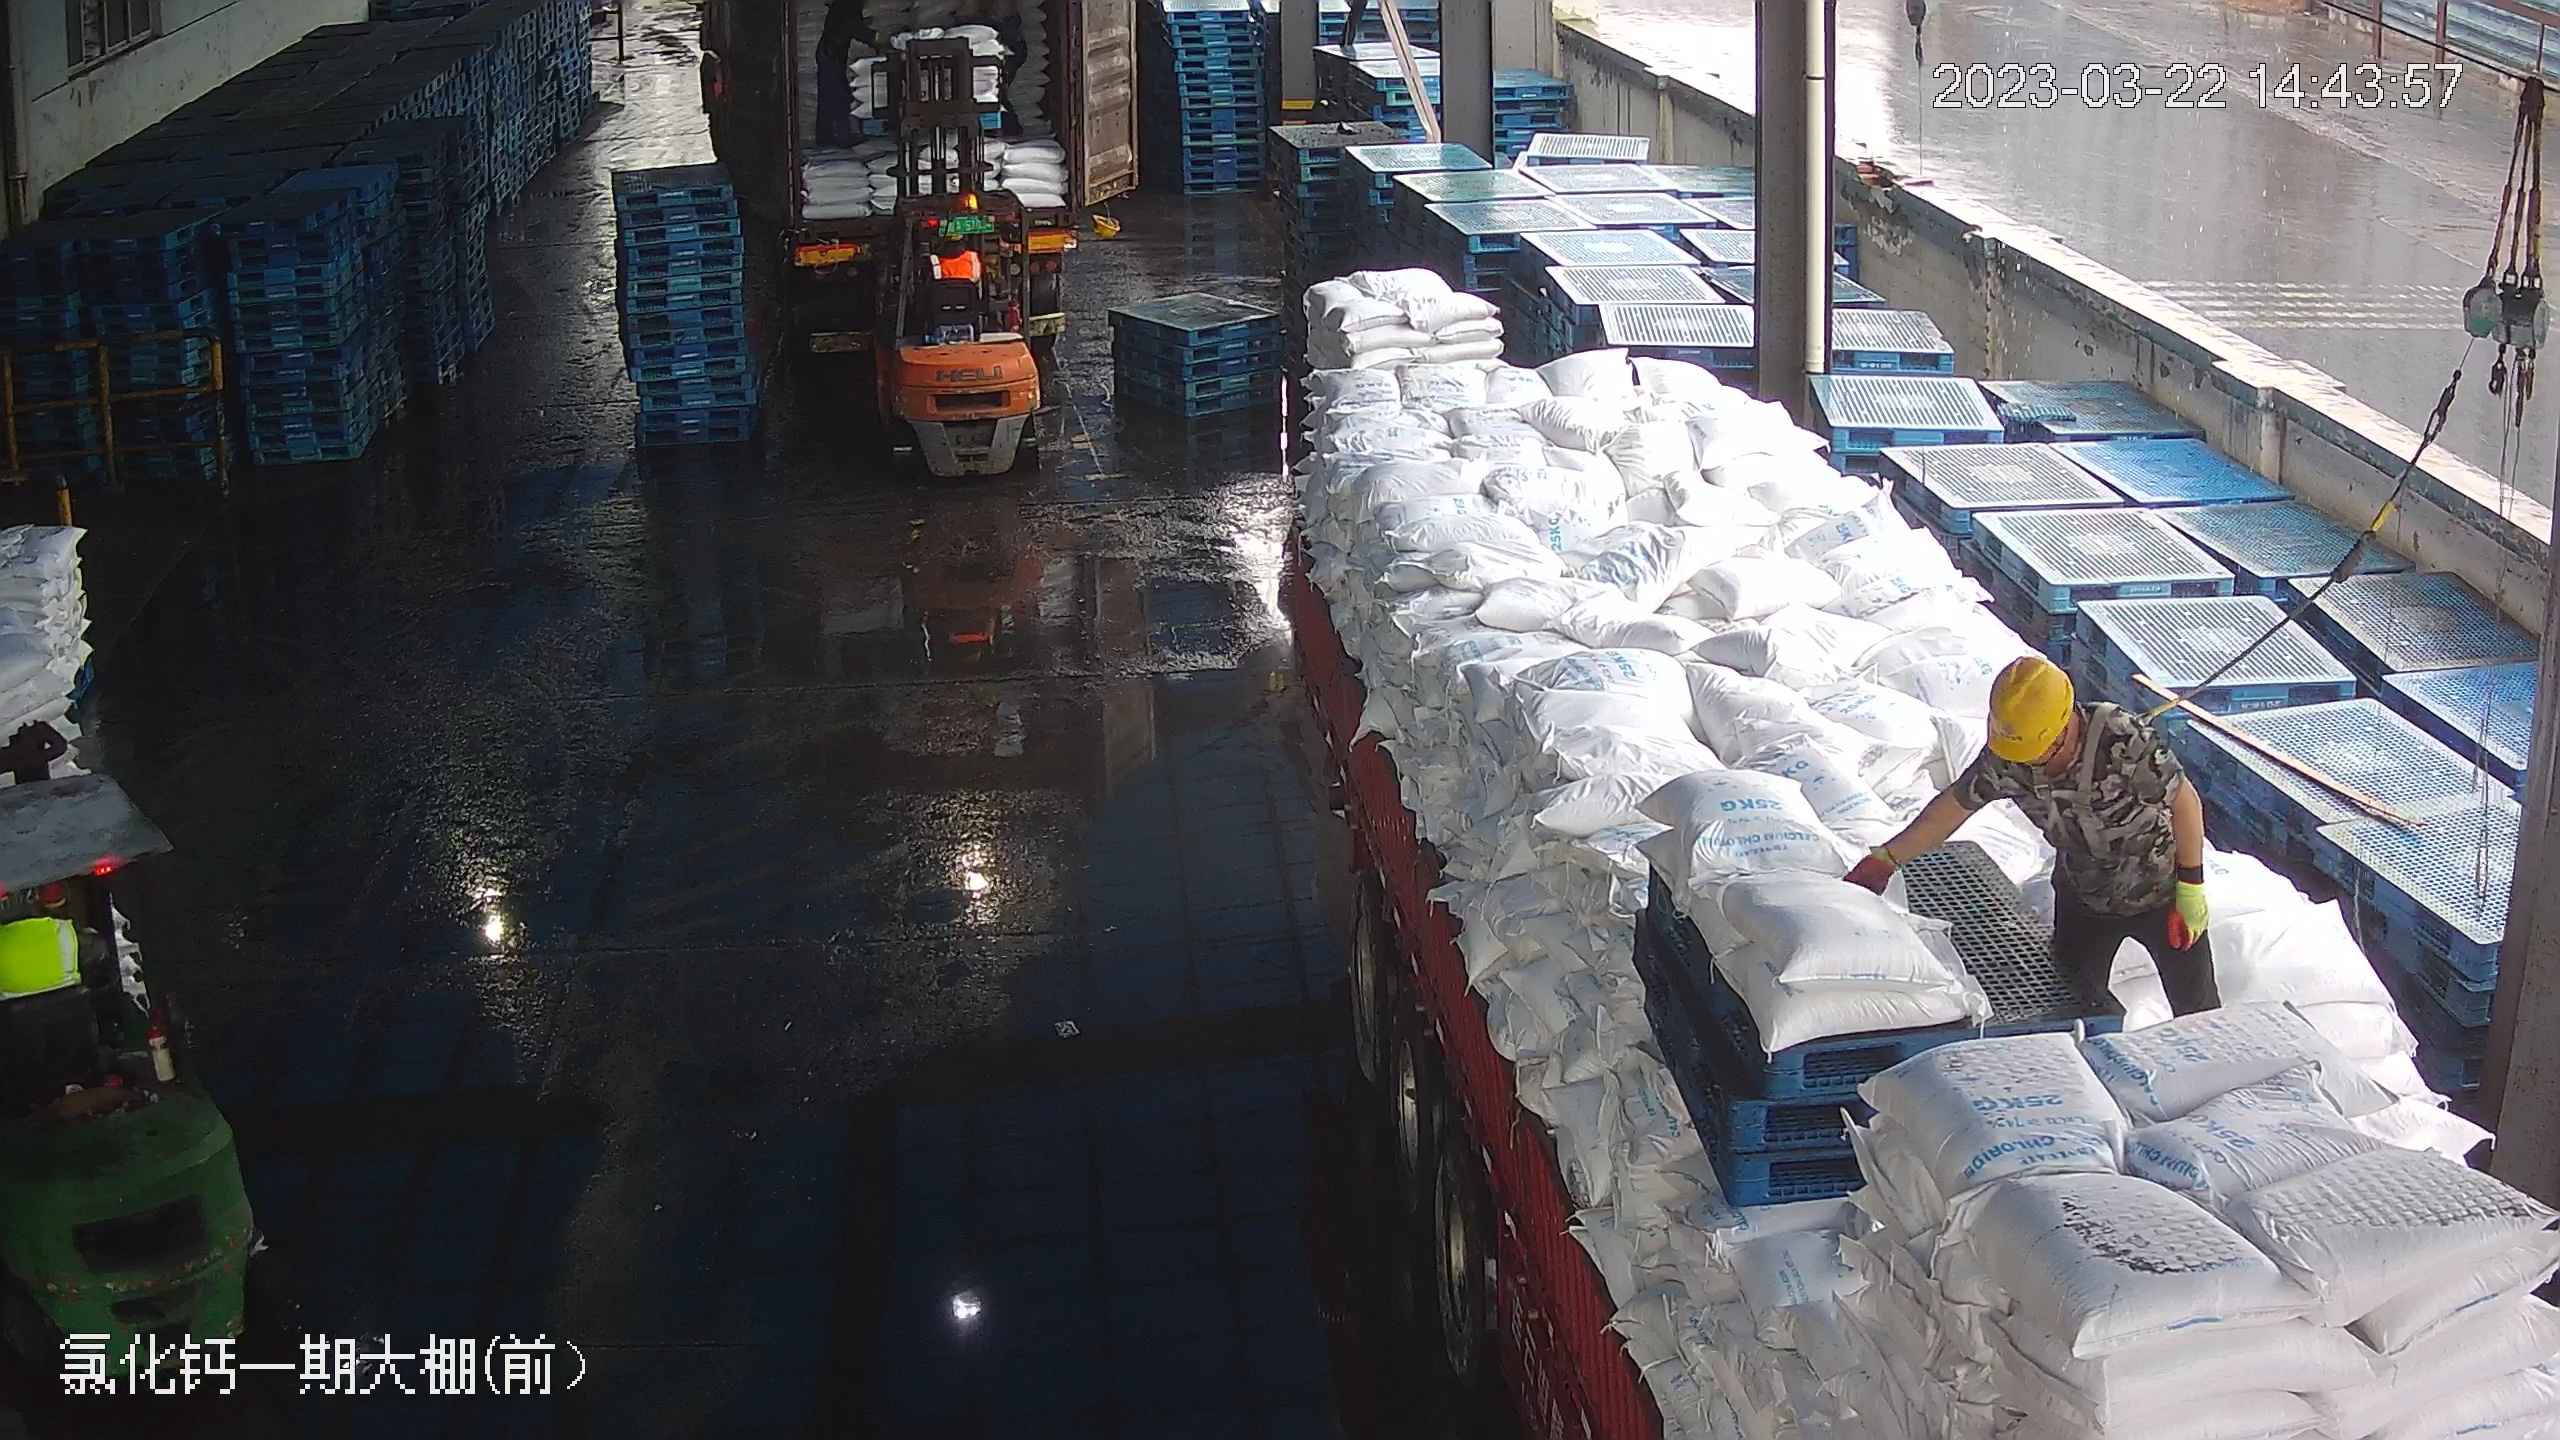belt: (1822, 650, 2246, 1046), (2038, 688, 2161, 837)
head: (1975, 653, 2159, 817)
helmet: (1981, 651, 2074, 760)
people: (1844, 657, 2216, 1033)
truck: (1241, 131, 2549, 1440), (727, 0, 970, 312)
